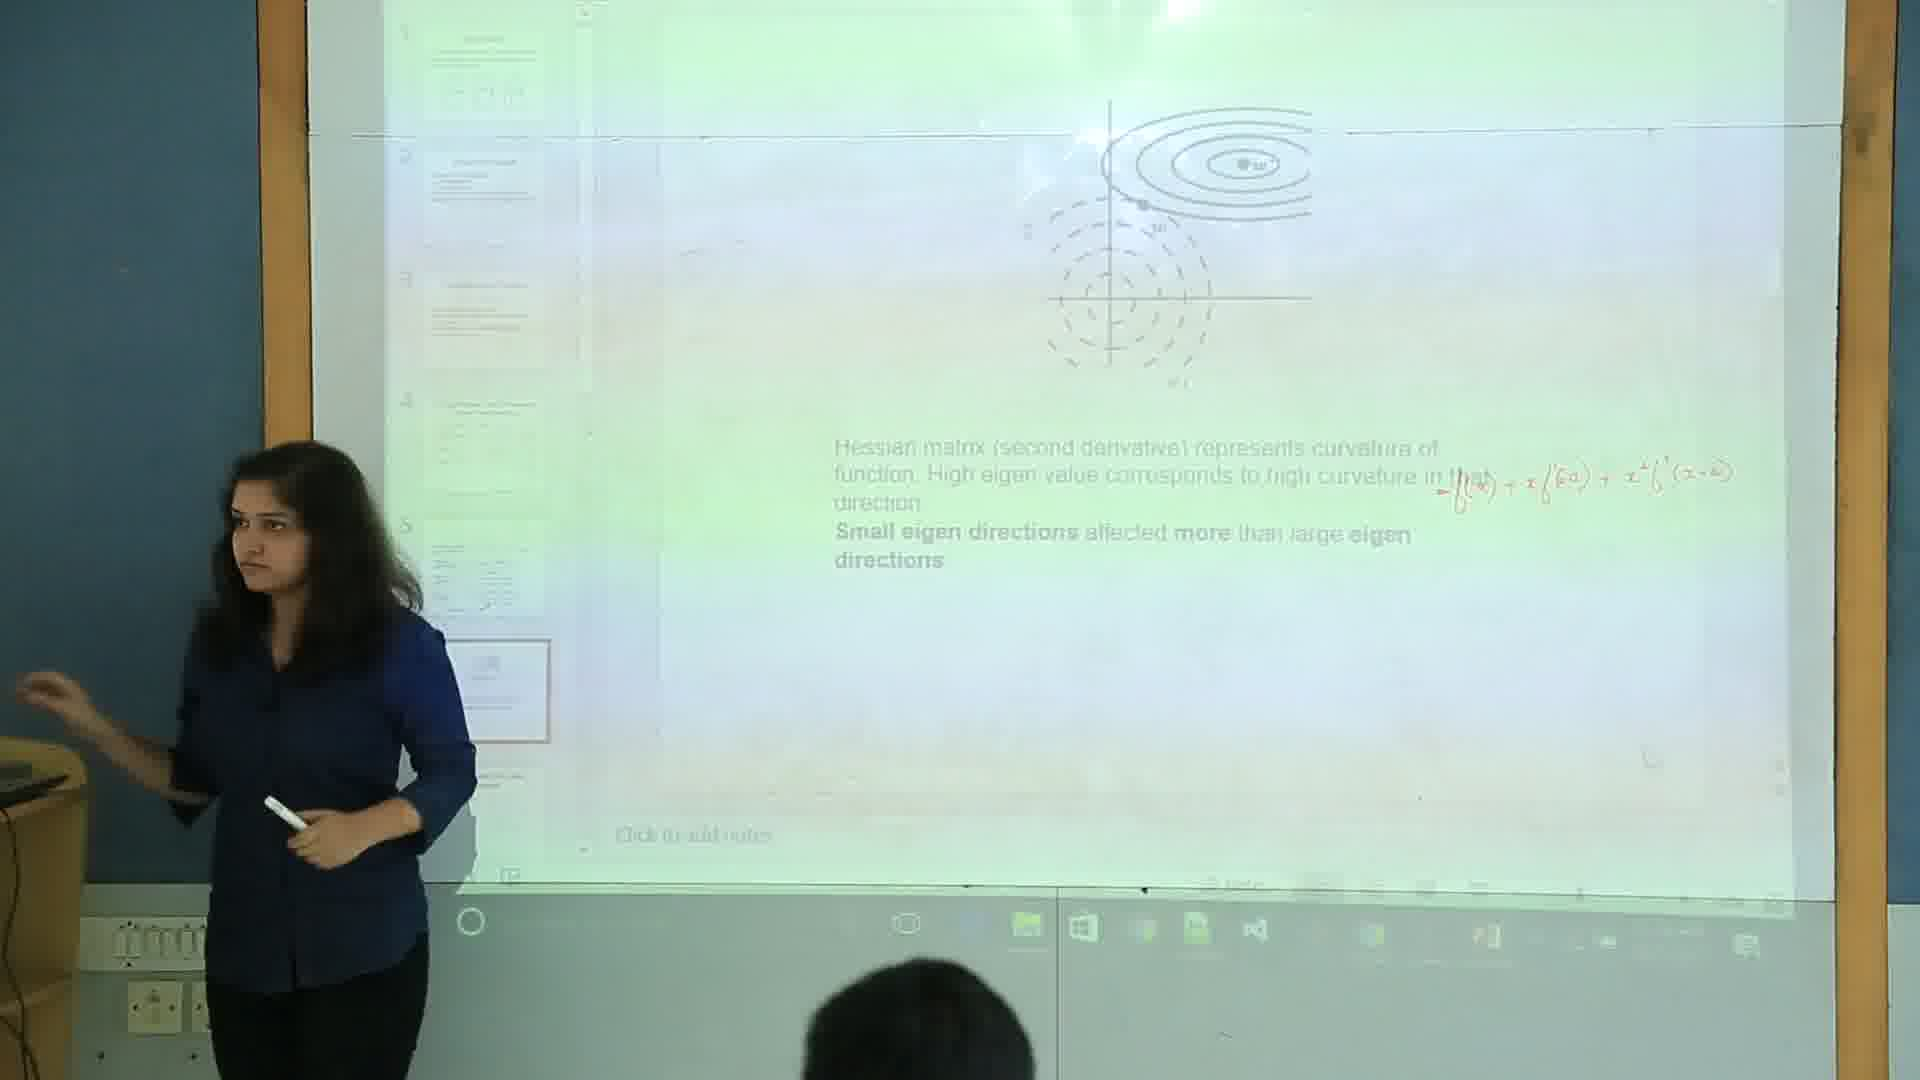fig: (1011, 88, 1325, 393)
